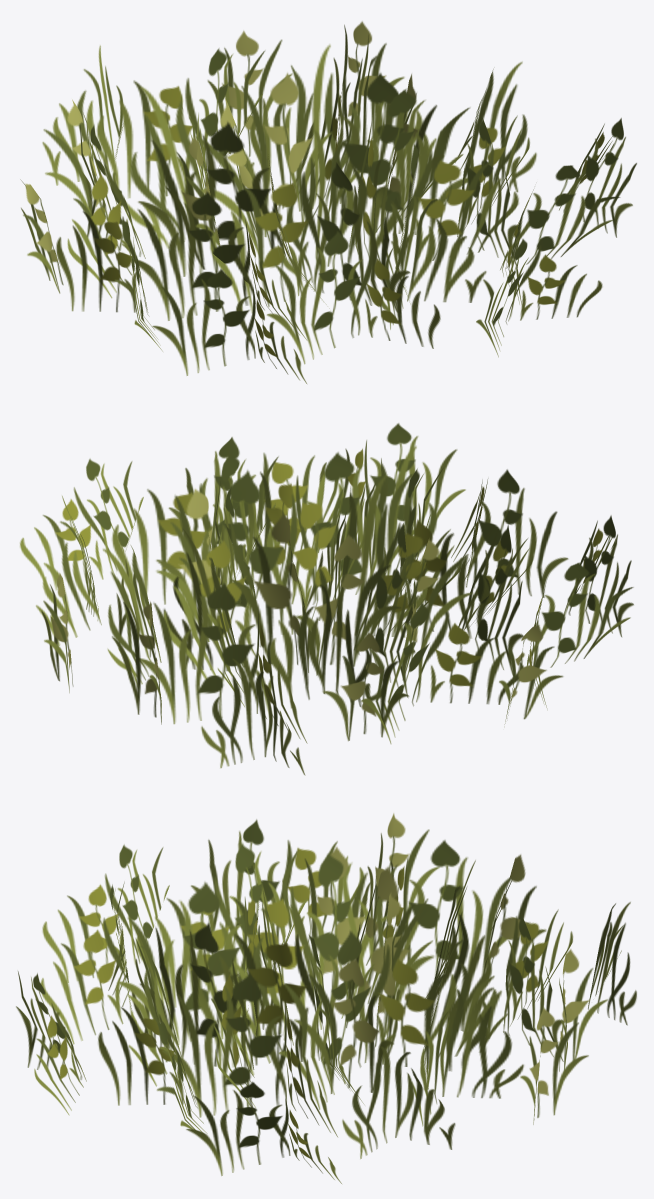
The model's file is Forest_Grass_1.glb.
3 renders of one model, top to bottom at view 1: azimuth 30°, elevation 25°; view 2: azimuth 150°, elevation 25°; view 3: azimuth 270°, elevation 25°, orthographic.
Visible parts, largest first — view 1: Forest_Grass_1; view 2: Forest_Grass_1; view 3: Forest_Grass_1.
Boxes of the visible parts, bbox=[...] form: Forest_Grass_1: bbox=[20, 21, 636, 383]; Forest_Grass_1: bbox=[20, 423, 633, 775]; Forest_Grass_1: bbox=[16, 813, 636, 1183].
Size of the model in its own units: 1.87 by 0.5493 by 1.74.
1 material, 1 textured.
